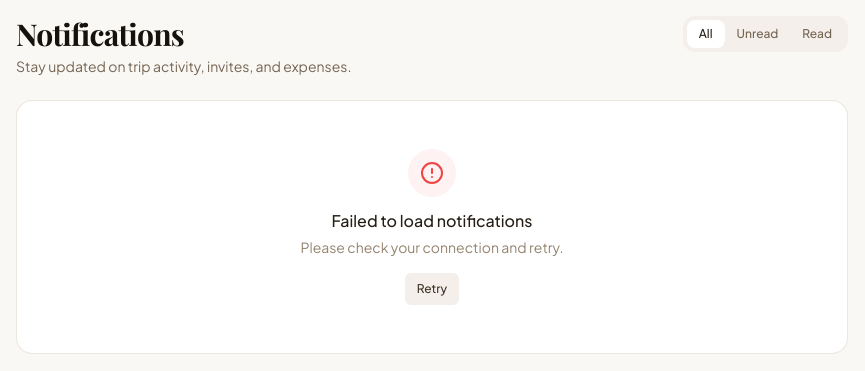
NotificationsPage › renders error state with retry on failure
This screenshot has width=865, height=371.
Expected: the text "Failed to load notifications" is shown, [331,210,532,231]
Click the button "Retry".
click(432, 289)  # box [405,273,459,305]
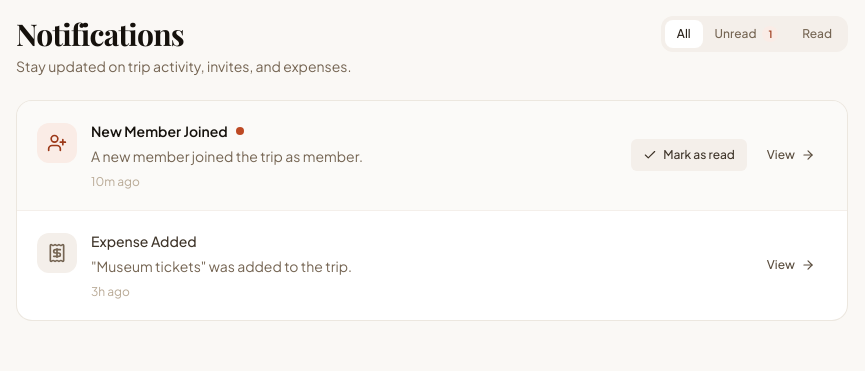
Now the heading "New Member Joined" is shown, box [91,121,228,141]
